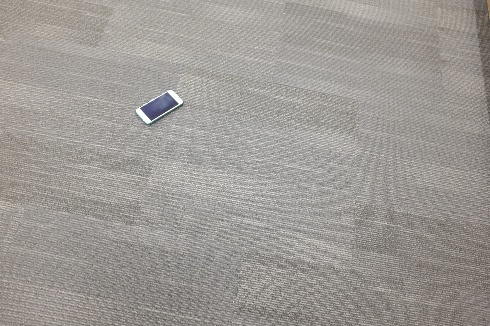phone: (132, 90, 181, 122)
